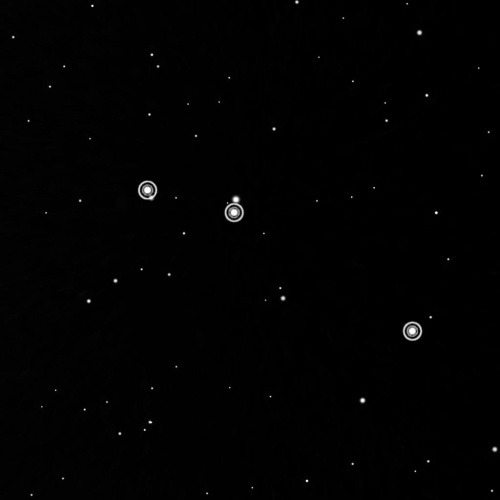vulpecula: (131, 173, 428, 346)
